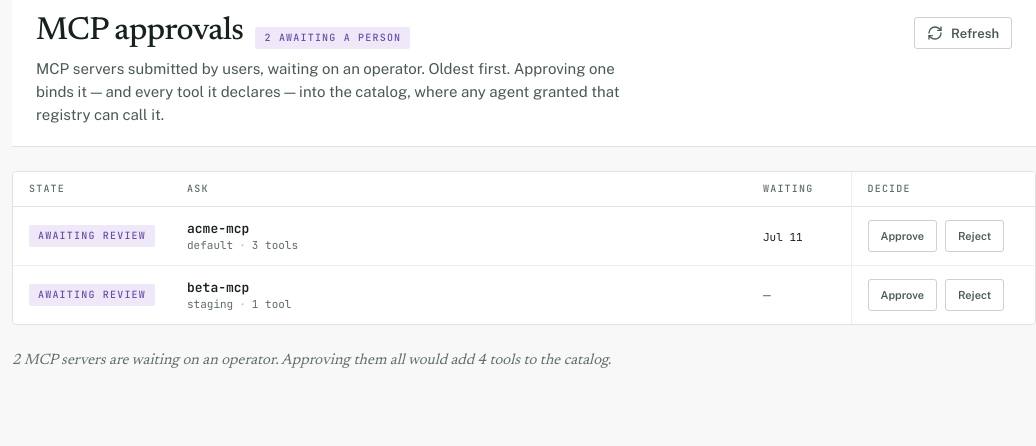
McpApprovalsPage › a forced 403 on approve surfaces honestly via action-error
What coordinates should you click on to do the following:
click the button with test id "mcp-approve-default-acme-mcp"
I would click on:
 (902, 236)
Its box is x1=868 y1=220 x2=937 y2=252.
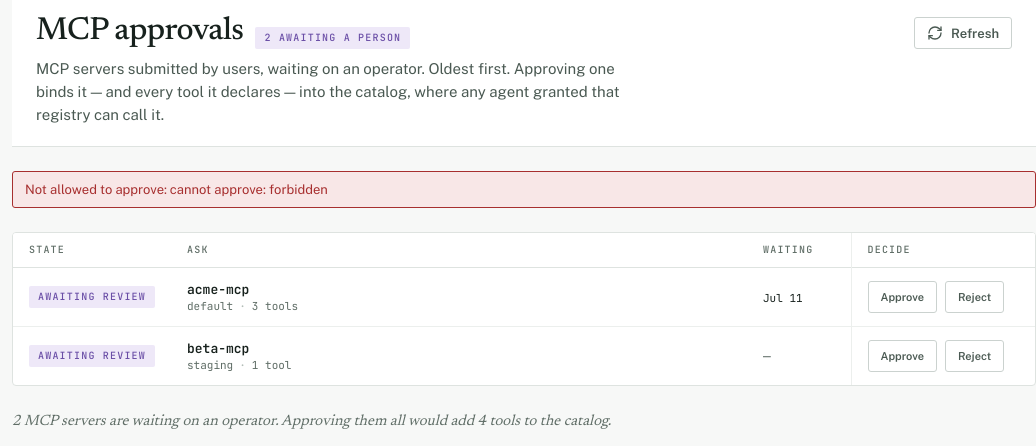
Check: the message "Not allowed to approve: cannot approve: forbidden" is shown, box x1=12 y1=171 x2=1035 y2=208
Check: the message with test id "action-error" shows "Not allowed", box x1=25 y1=182 x2=328 y2=197
